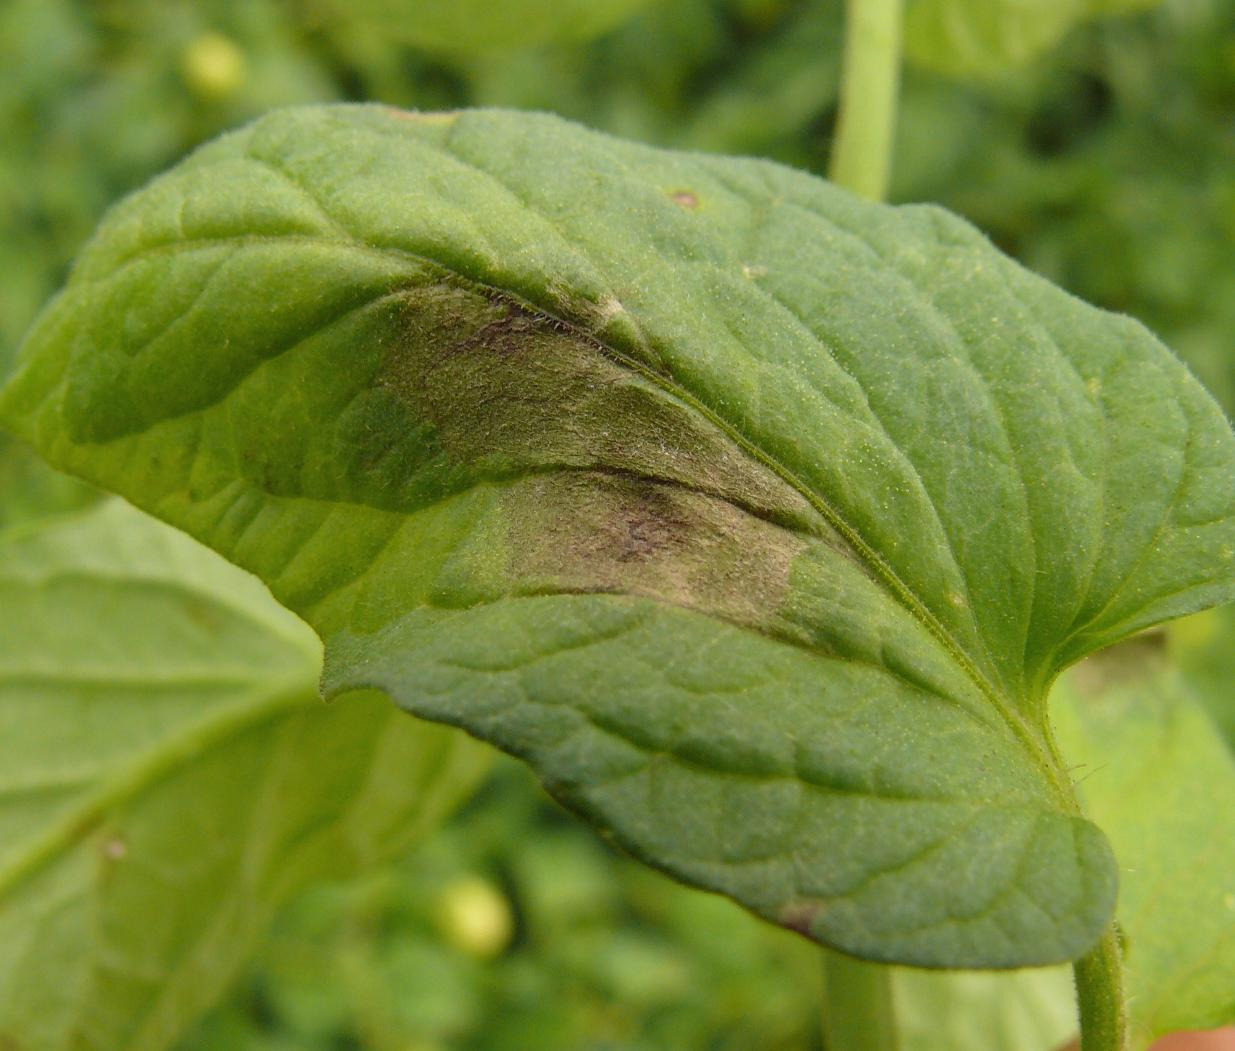Tomato leaf late blight: (15, 89, 1229, 981)
